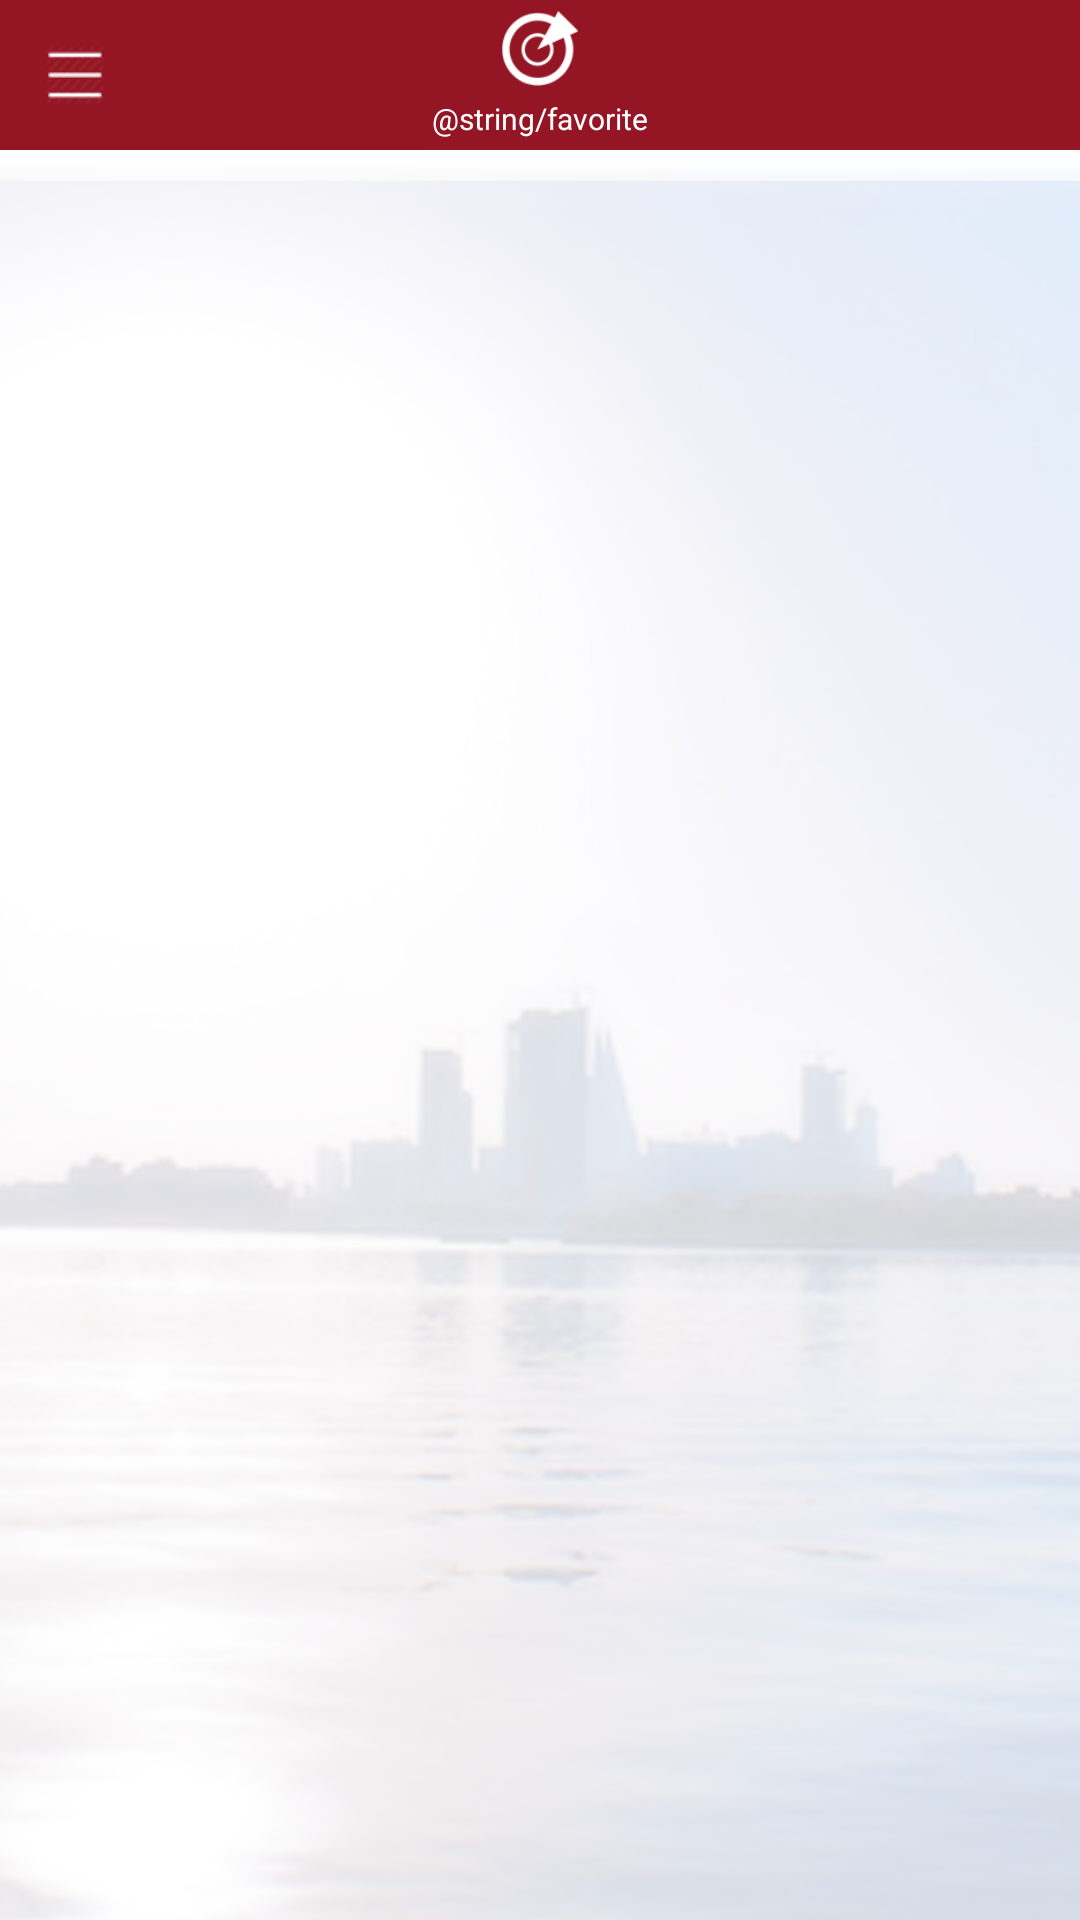

Icon bounding boxes for this 1080×1920 phone screenshot, format (x1, y1, x2, y2):
menubar: (48, 51, 102, 99)
